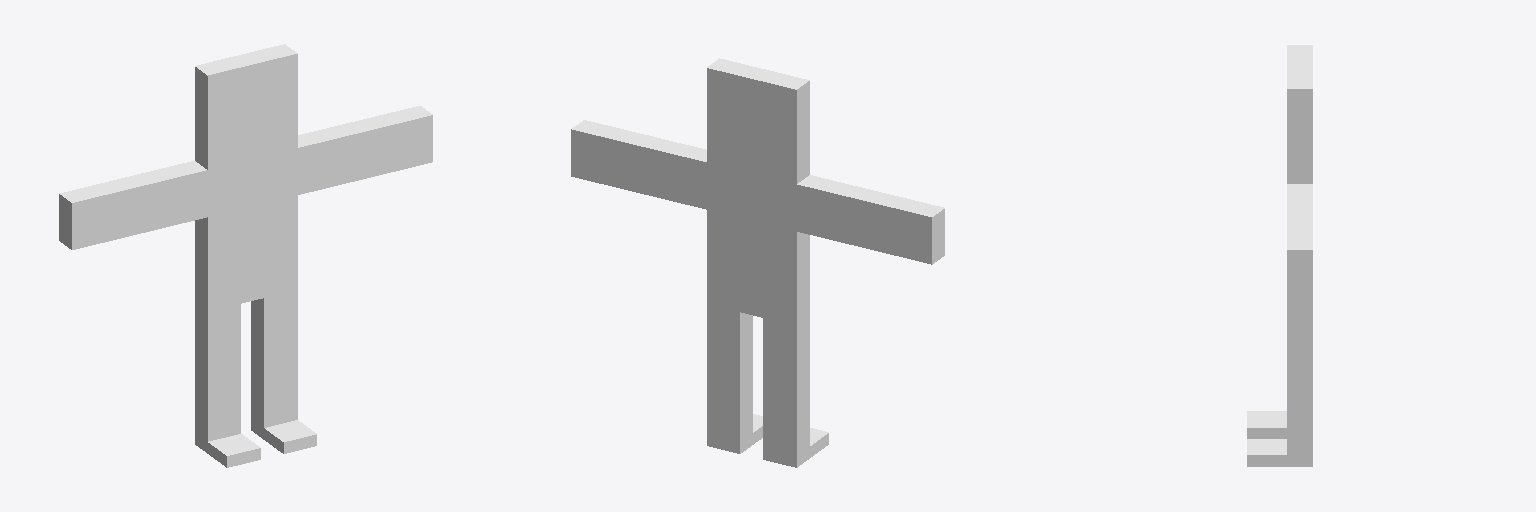
The model's file is player-test.obj.
3 renders of one model, left to right at view 1: azimuth 30°, elevation 25°; view 2: azimuth 150°, elevation 25°; view 3: azimuth 270°, elevation 25°, orthographic.
Visible parts, largest first — view 1: player; view 2: player; view 3: player.
Boxes of the visible parts, x1=… form: player: x1=59, y1=44, x2=432, y2=467; player: x1=571, y1=58, x2=944, y2=467; player: x1=1247, y1=45, x2=1312, y2=466.
Size of the model in its own units: 3.2 by 3.2 by 0.5.